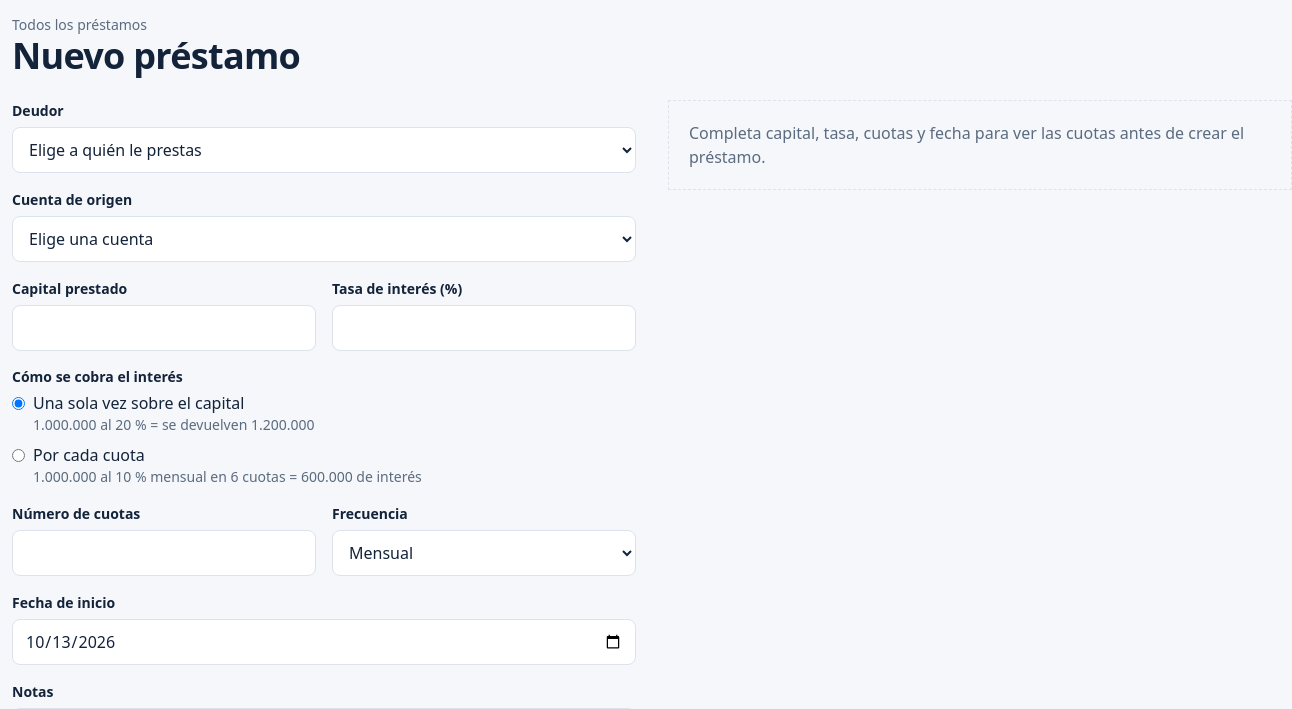
Test: amounts typed with thousands dots are understood
The width and height of the screenshot is (1292, 709).
Select "Luis Pérez" in the dropdown labelled "Deudor": (324,150) [12,127,636,173]
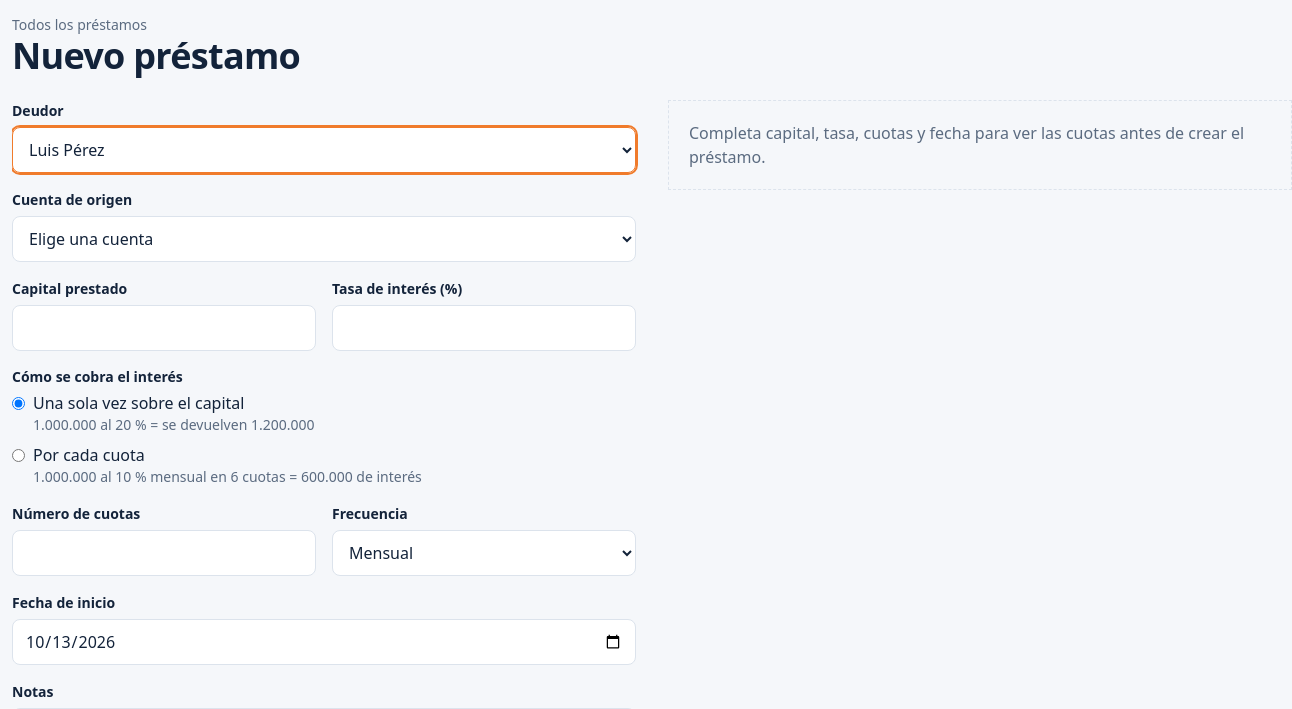
Select "Bancolombia ($ 2.000.000)" in the dropdown labelled "Cuenta de origen": (324,239) [12,216,636,262]
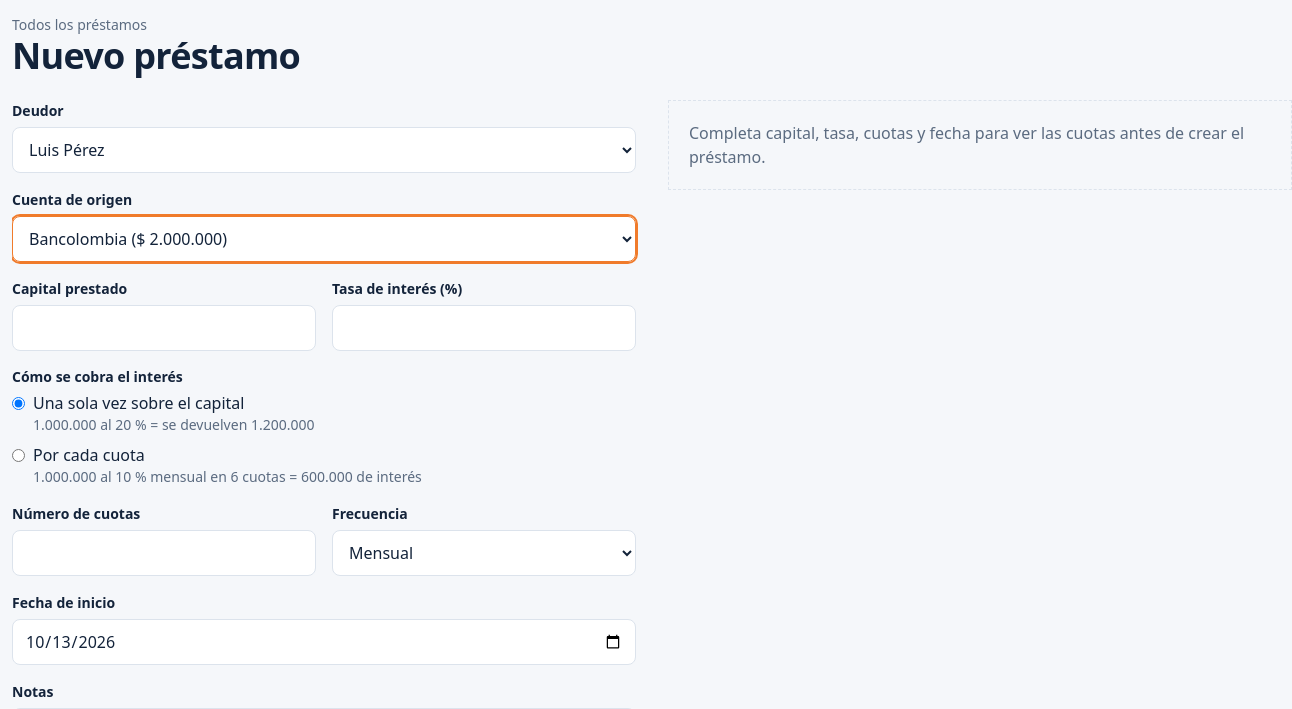
In the field labelled "Capital prestado": (164,328) [12,305,316,351], type "1.000.000"
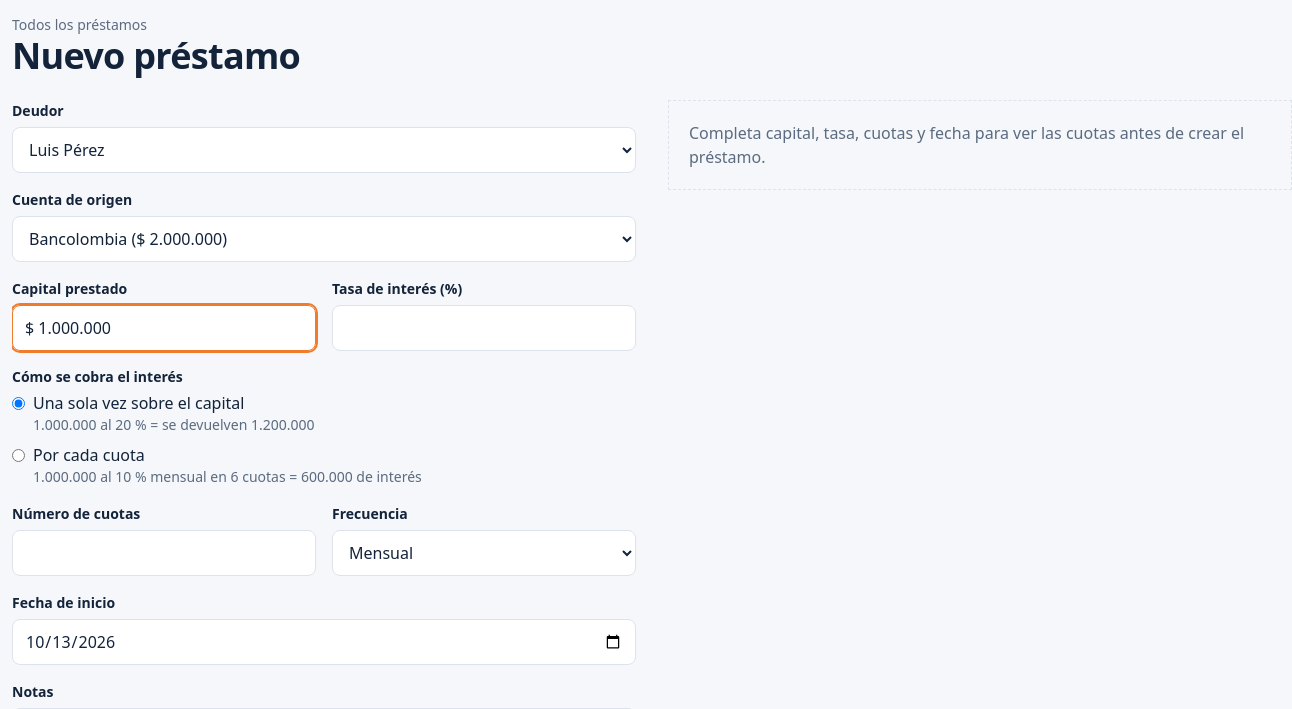
In the field labelled "Tasa de interés (%)": (484,328) [332,305,636,351], type "20"
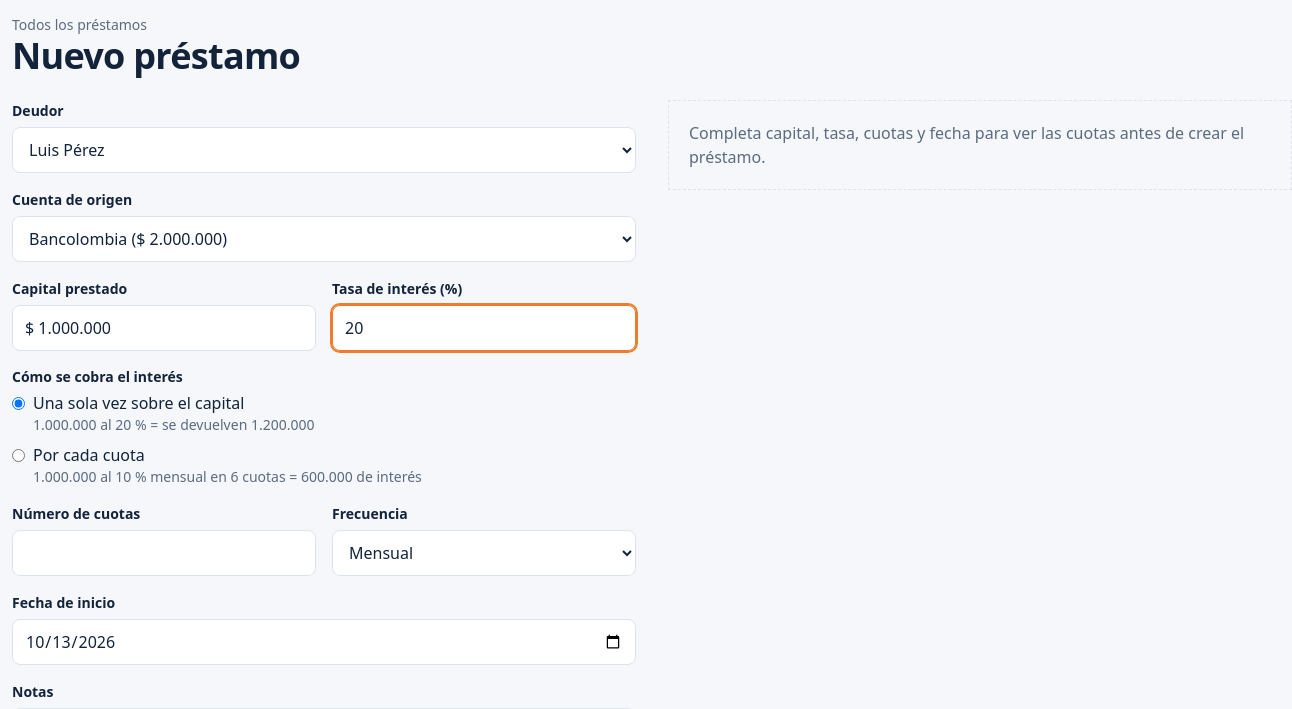
In the number field labelled "Número de cuotas": (164,553) [12,530,316,576], type "3"
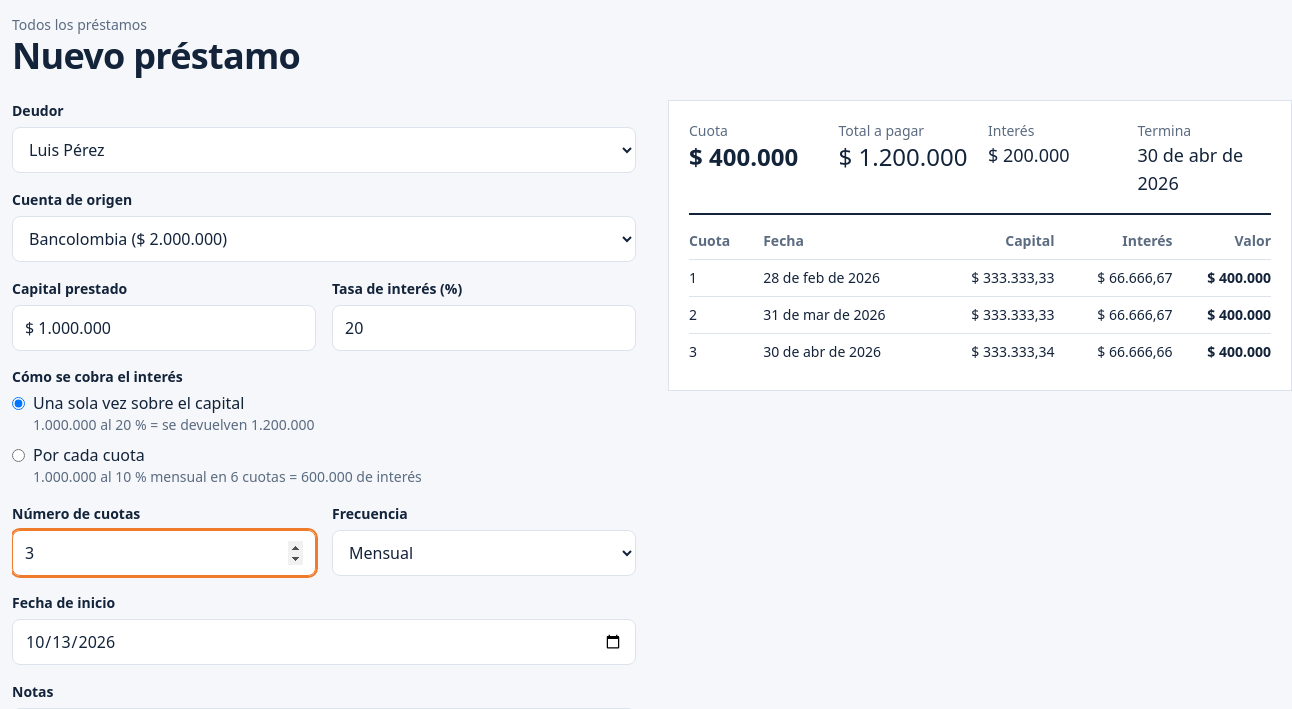
Check: the element named "Vista previa" is shown, box [668,100,1291,391]
